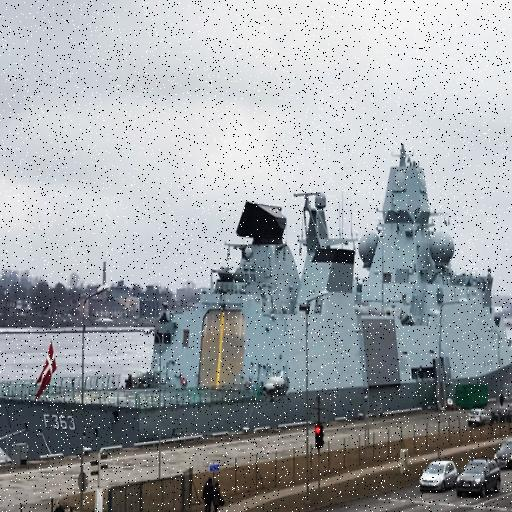Fragata: (1, 133, 512, 472)
